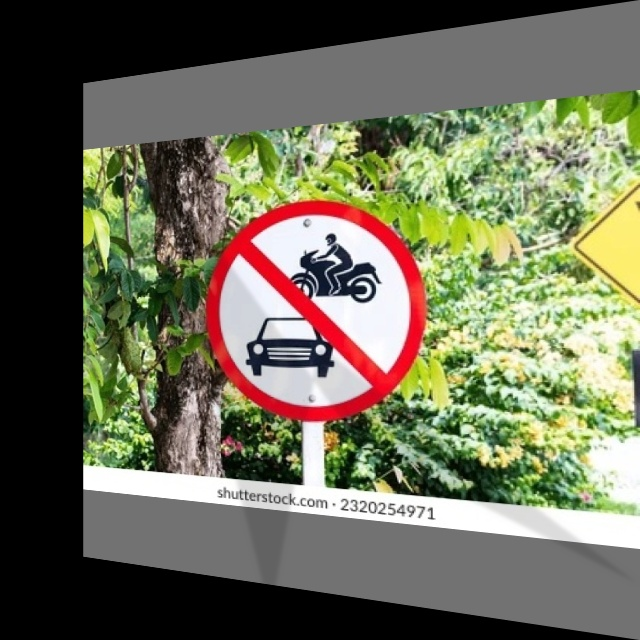All_Motor_Vehicles_Prohibited: (208, 196, 419, 420)
